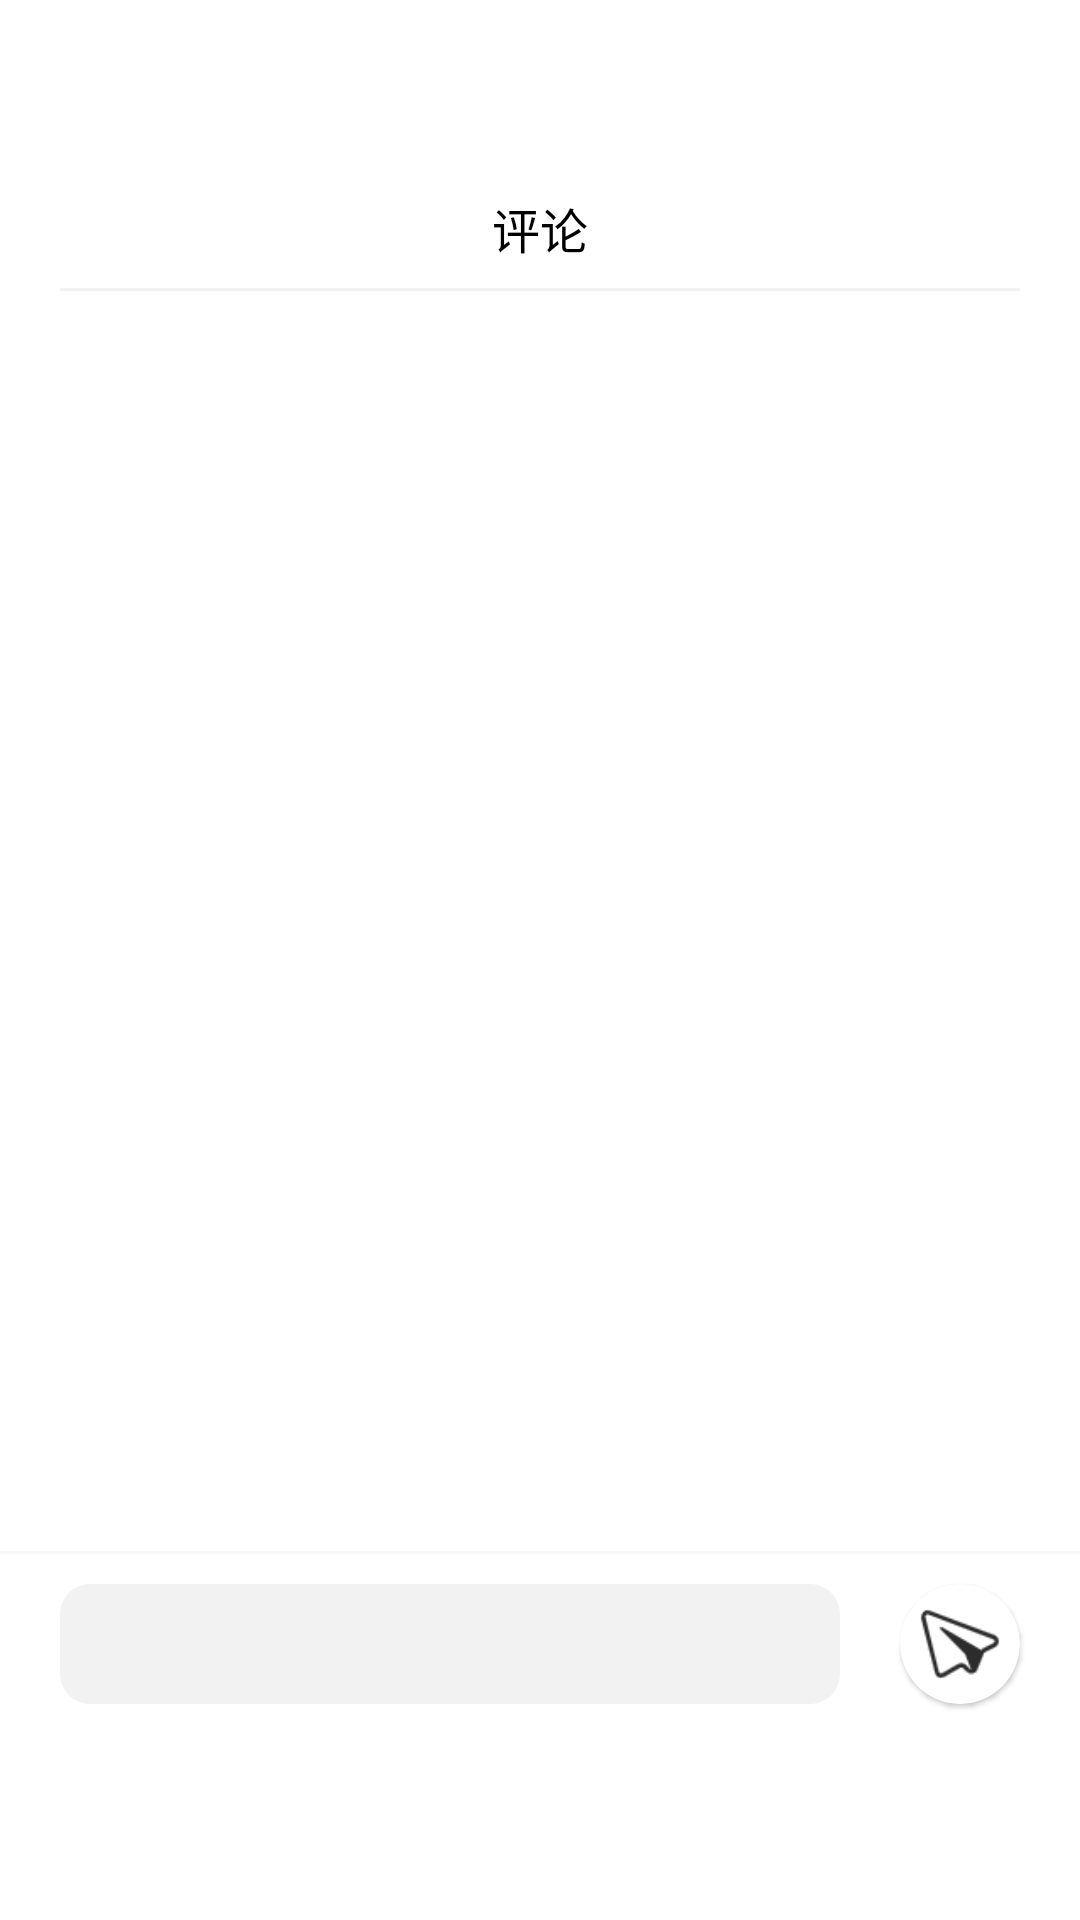

Locate icon controls on the screen. Image size 1080 × 1920, boxes as BBox(x1, y1, x2, y2).
sentcomment: BBox(907, 1610, 999, 1678)
